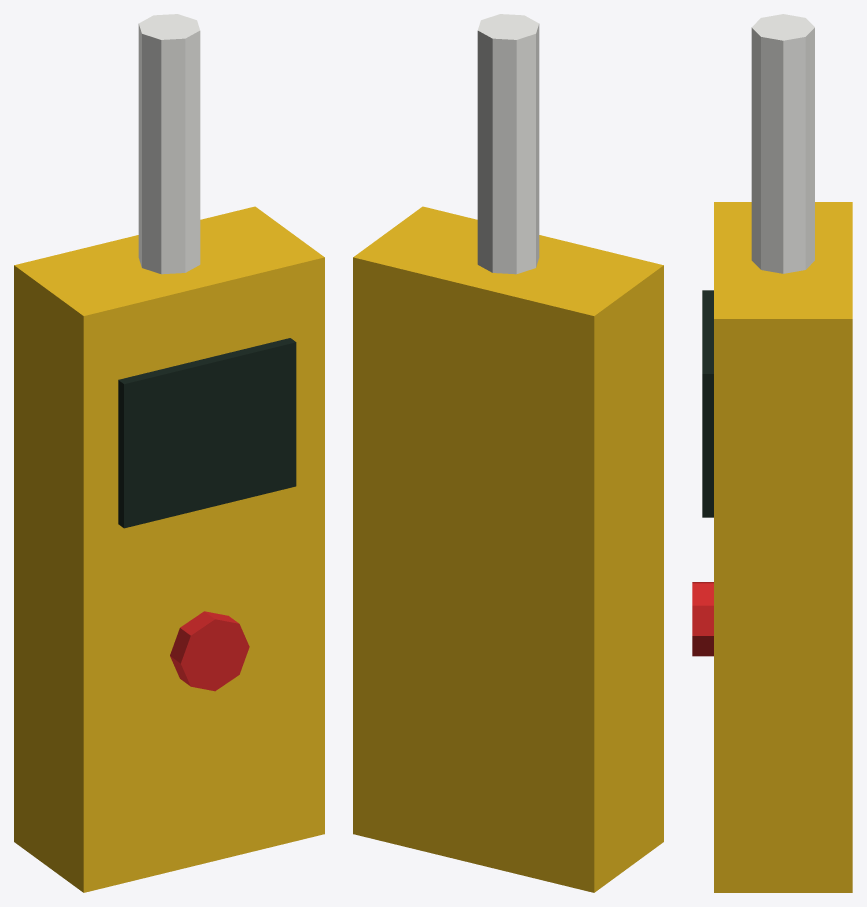
The model's file is breathalyzer.glb.
3 views of the same model, side by side, from view 1: azimuth 30°, elevation 25°; view 2: azimuth 150°, elevation 25°; view 3: azimuth 270°, elevation 25° (orthographic).
Visible parts, largest first — view 1: body_breath_body, screen_breath_screen, tube_breath_tube, body_breath_button; view 2: body_breath_body, tube_breath_tube; view 3: body_breath_body, tube_breath_tube, screen_breath_screen, body_breath_button.
Boxes of the visible parts, <box> form: body_breath_body: <box>14,206,324,892</box>; screen_breath_screen: <box>118,338,296,528</box>; tube_breath_tube: <box>138,14,200,274</box>; body_breath_button: <box>170,611,249,691</box>; body_breath_body: <box>353,206,663,892</box>; tube_breath_tube: <box>477,14,539,274</box>; body_breath_body: <box>714,202,852,892</box>; tube_breath_tube: <box>751,14,814,273</box>; screen_breath_screen: <box>702,290,713,517</box>; body_breath_button: <box>692,582,713,656</box>.
Size of the model in its own units: 0.07 by 0.225 by 0.0405.
